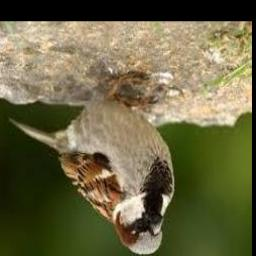Sparrow: (9, 71, 174, 255)
